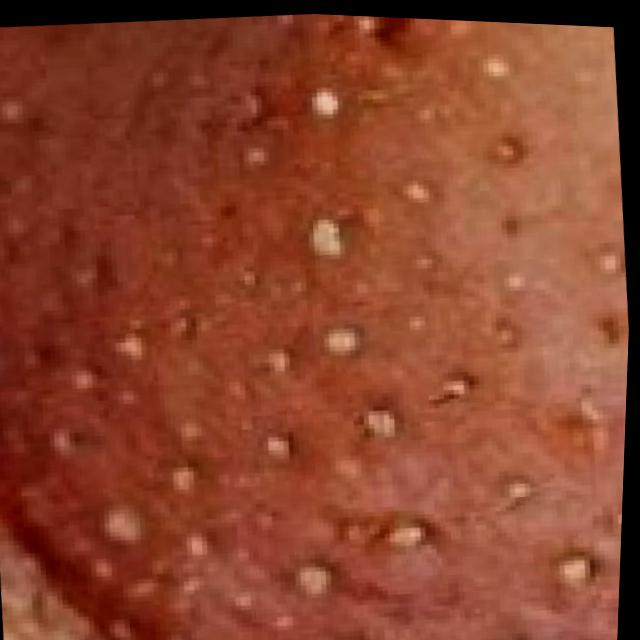whitehead: (7, 29, 621, 626)
